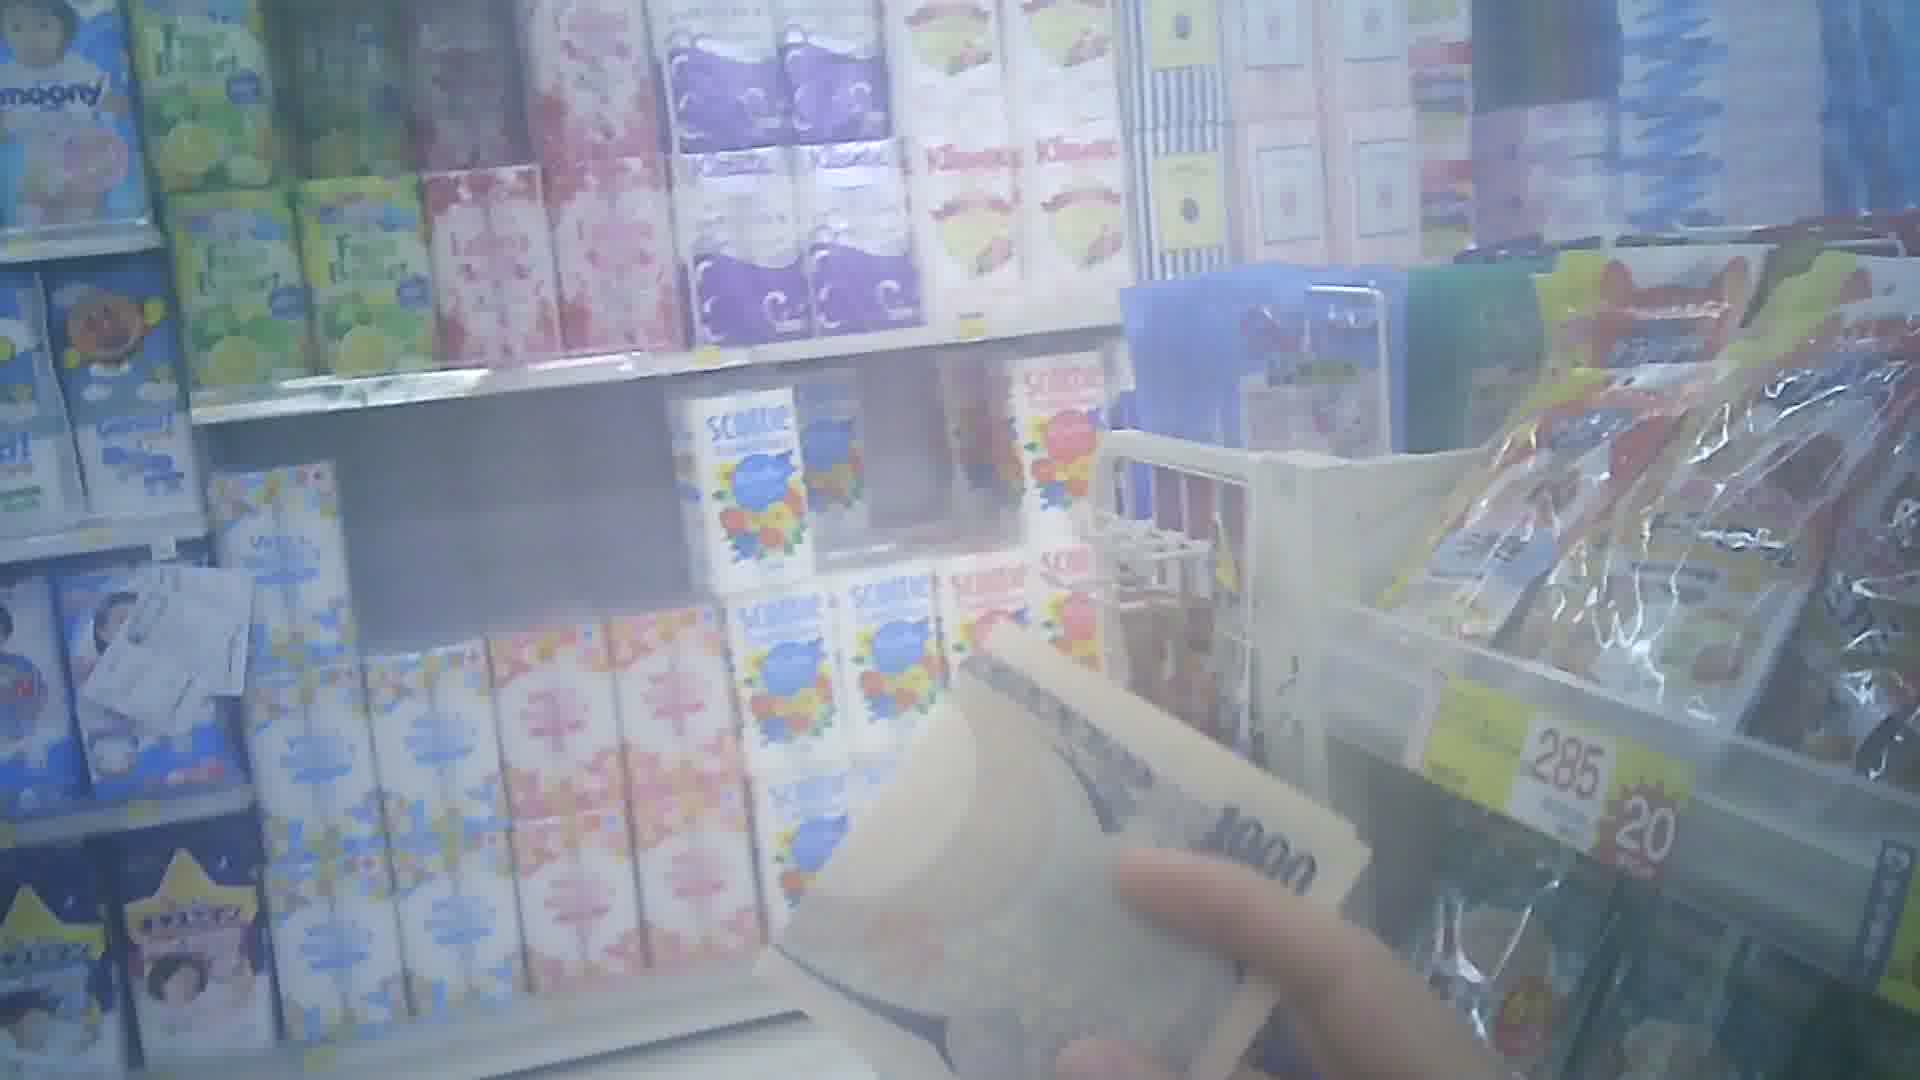1,000 Yen: (779, 618, 1356, 1068)
